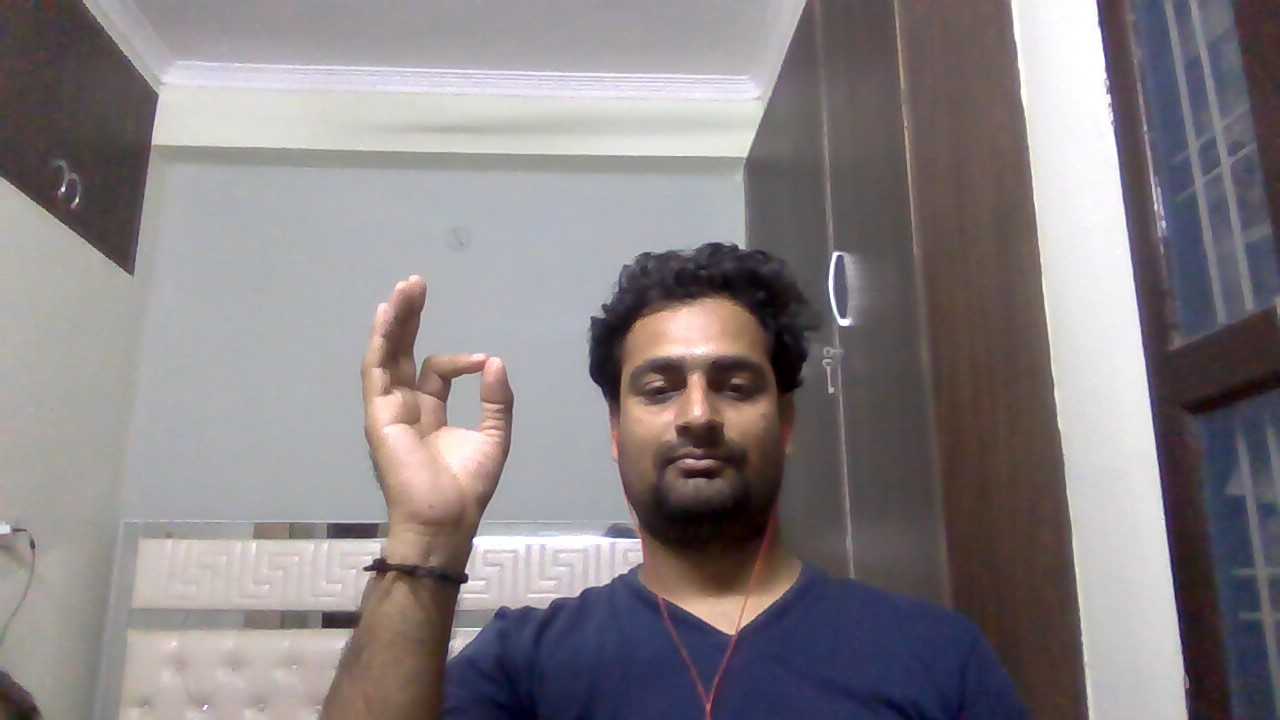Copy: (340, 264, 533, 562)
